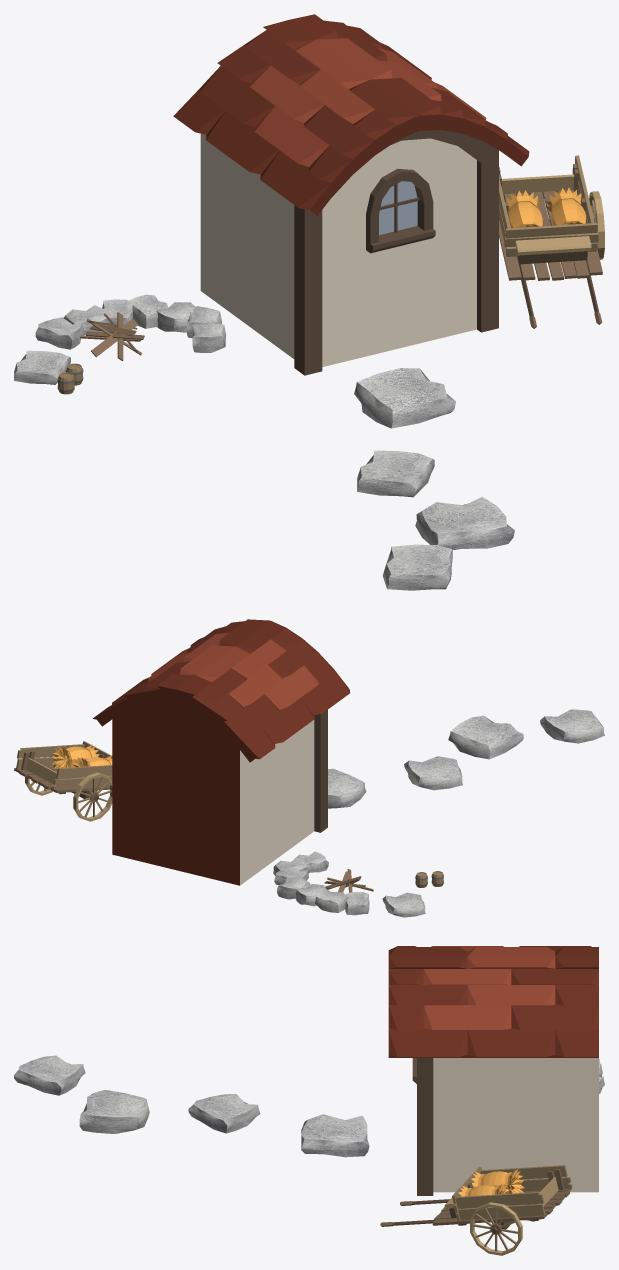
The model's file is home.obj.
The picture shows the model from 3 angles, top to bottom: view 1: azimuth 30°, elevation 25°; view 2: azimuth 150°, elevation 25°; view 3: azimuth 270°, elevation 25°; orthographic projection. The views are drawn at different scales.
Parts seen in each view (by area): view 1: Kit_Window_Upper_Convex1:object4, Kit_Window_Upper_Convex1:object2, isi:pCube1, pCube2, Kit_Window_Upper_Convex1:object3, pCube1, pCube3, Prop_Cart_1_Hay:object12, pCube11, Prop_Cart_1_Hay:object32, pCube7, Prop_Cart_1_Hay:object39 (+5 smaller); view 2: Kit_Window_Upper_Convex1:object4, pCube2, Kit_Window_Upper_Convex1:object2, pCube3, pCube1, isi:pCube1, pCube11, Prop_Cart_1_Hay:object39, Prop_Cart_1_Hay:object23, pCube6, Prop_Cart_1_Hay:object1, pCube7 (+7 smaller); view 3: Kit_Window_Upper_Convex1:object4, isi:pCube1, pCube2, Kit_Window_Upper_Convex1:object2, pCube3, pCube1, Prop_Cart_1_Hay:object17, Prop_Cart_1_Hay:object26, Prop_Cart_1_Hay:object38, Prop_Cart_1_Hay:object21, Prop_Cart_1_Hay:object1, Prop_Cart_1_Hay:object7 (+2 smaller).
Boxes of the visible parts, bbox=[...] form: Kit_Window_Upper_Convex1:object4: bbox=[173, 14, 529, 366]; Kit_Window_Upper_Convex1:object2: bbox=[294, 130, 498, 375]; isi:pCube1: bbox=[354, 368, 455, 428]; pCube2: bbox=[415, 496, 514, 549]; Kit_Window_Upper_Convex1:object3: bbox=[366, 168, 435, 253]; pCube1: bbox=[357, 450, 434, 497]; pCube3: bbox=[382, 544, 452, 590]; Prop_Cart_1_Hay:object12: bbox=[515, 236, 591, 264]; pCube11: bbox=[14, 350, 70, 384]; Prop_Cart_1_Hay:object32: bbox=[501, 174, 574, 193]; pCube7: bbox=[35, 317, 84, 349]; Prop_Cart_1_Hay:object39: bbox=[546, 187, 585, 225]; Kit_Window_Upper_Convex1:object4: bbox=[93, 619, 349, 885]; pCube2: bbox=[448, 715, 523, 759]; Kit_Window_Upper_Convex1:object2: bbox=[314, 710, 327, 832]; pCube3: bbox=[540, 709, 604, 743]; pCube1: bbox=[404, 756, 462, 790]; isi:pCube1: bbox=[328, 768, 366, 808]; pCube11: bbox=[382, 892, 425, 917]; Prop_Cart_1_Hay:object39: bbox=[52, 744, 99, 768]; Prop_Cart_1_Hay:object23: bbox=[73, 772, 112, 821]; pCube6: bbox=[315, 889, 348, 912]; Prop_Cart_1_Hay:object1: bbox=[56, 765, 112, 778]; pCube7: bbox=[345, 892, 369, 915]; Kit_Window_Upper_Convex1:object4: bbox=[388, 946, 598, 1192]; isi:pCube1: bbox=[301, 1114, 369, 1157]; pCube2: bbox=[79, 1090, 149, 1133]; Kit_Window_Upper_Convex1:object2: bbox=[417, 1058, 433, 1195]; pCube3: bbox=[14, 1055, 85, 1095]; pCube1: bbox=[188, 1094, 260, 1133]; Prop_Cart_1_Hay:object17: bbox=[455, 1192, 544, 1208]; Prop_Cart_1_Hay:object26: bbox=[458, 1203, 545, 1220]; Prop_Cart_1_Hay:object38: bbox=[471, 1169, 524, 1193]; Prop_Cart_1_Hay:object21: bbox=[470, 1202, 522, 1255]; Prop_Cart_1_Hay:object1: bbox=[480, 1165, 567, 1179]; Prop_Cart_1_Hay:object7: bbox=[473, 1208, 517, 1251].
Bounding box in the file's own units: 6.44 × 2.87 × 7.19.
14 materials, 1 textured.
